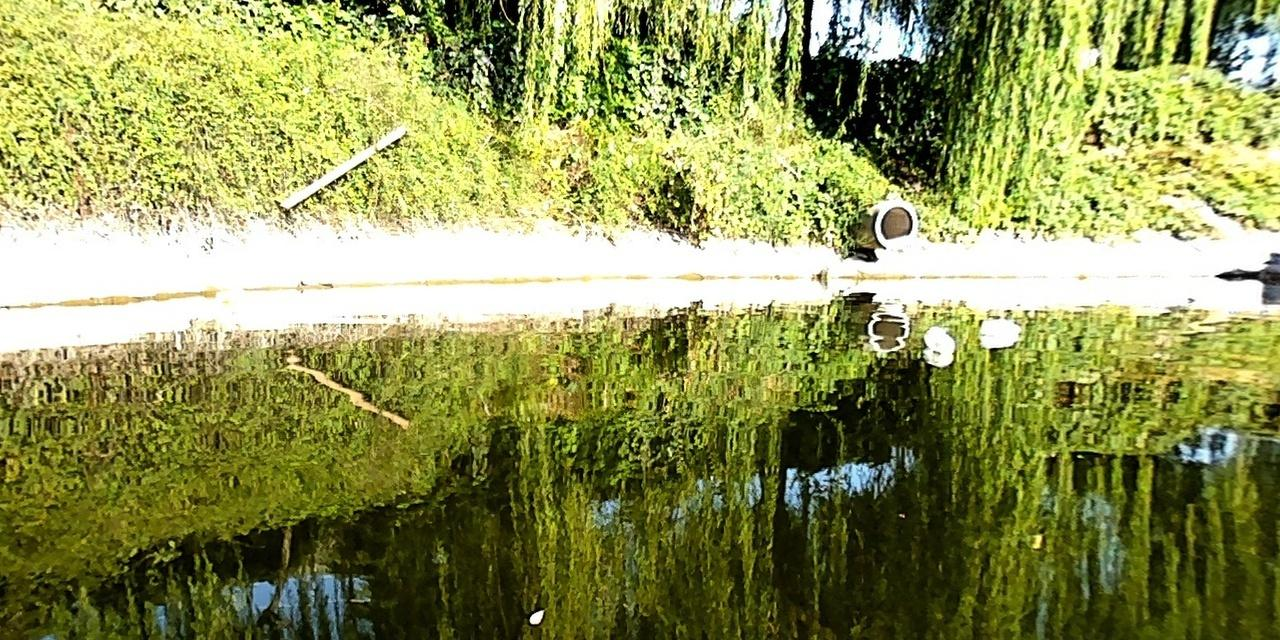bottle: (977, 315, 1026, 334), (922, 325, 950, 351)
